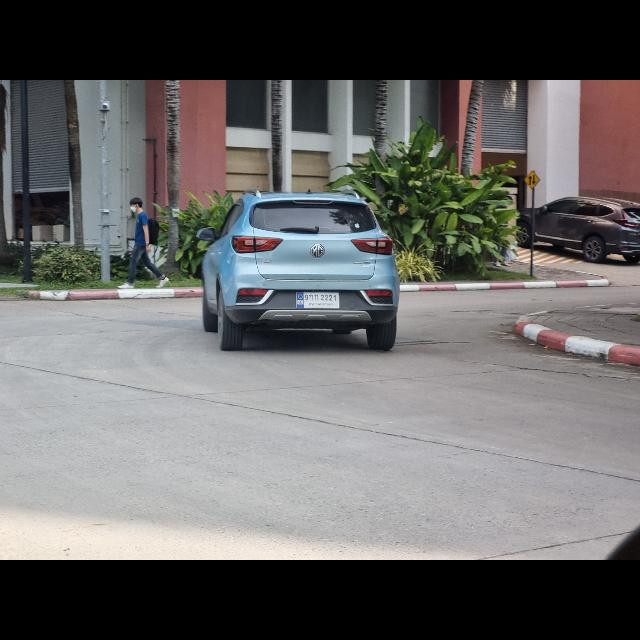licenseplate: (296, 291, 340, 309)
